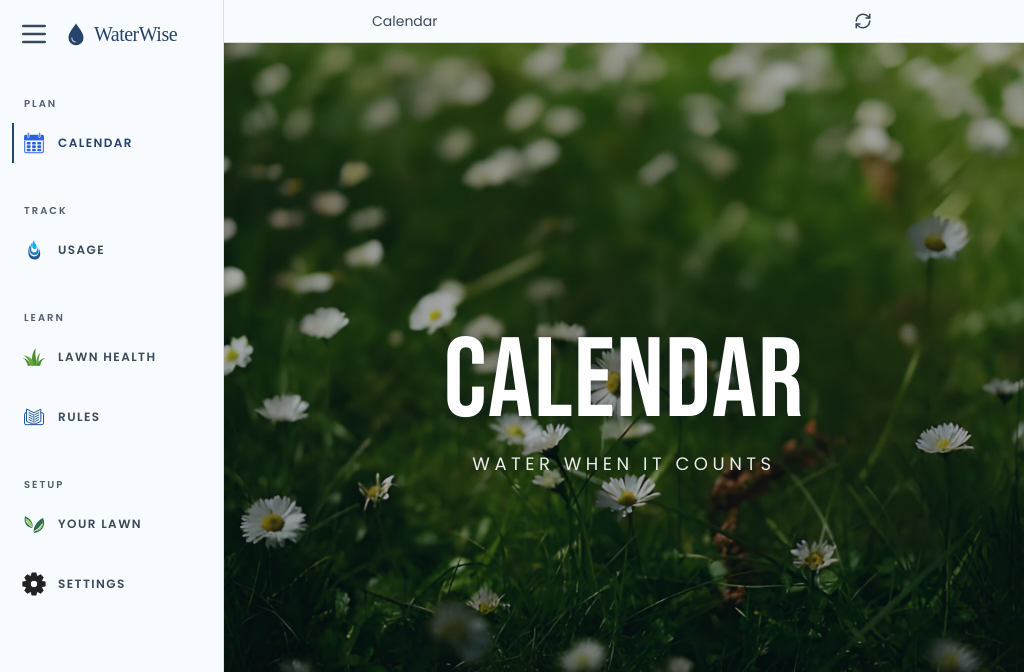
it: app UI › menu has exactly Calendar, Usage, Lawn Health, Municipal Rules and Settings, and each opens
The image size is (1024, 672).
Click the button "Usage": (112, 250) top-left (12, 230), bottom-right (211, 270)
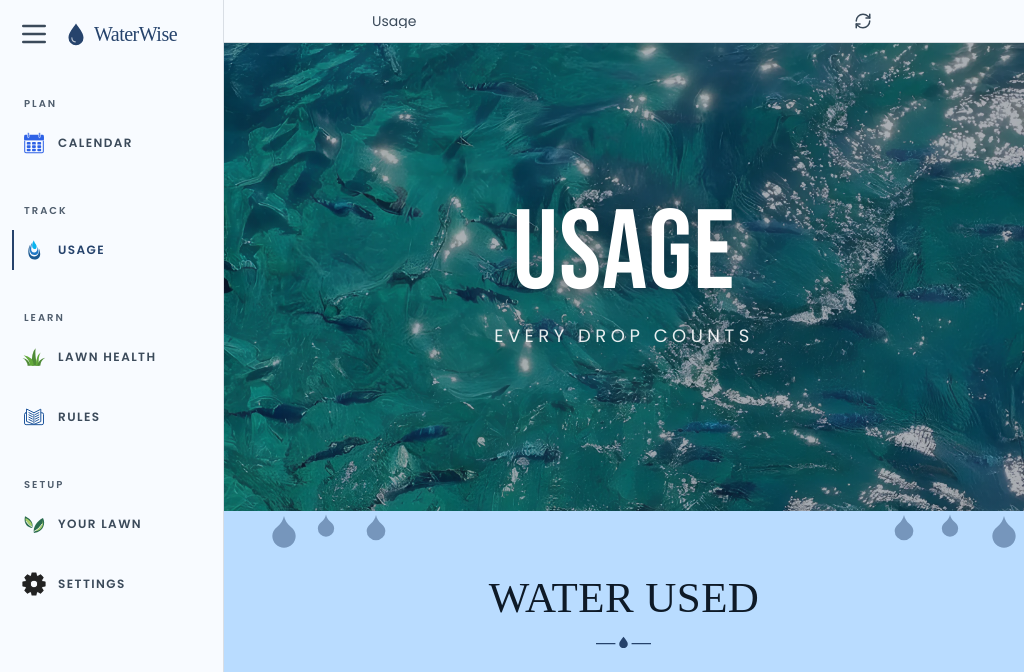
Result: the heading "Usage" is shown at top-left (513, 204), bottom-right (735, 306)
Click the button "Lawn Health": (112, 357) top-left (12, 337), bottom-right (211, 377)
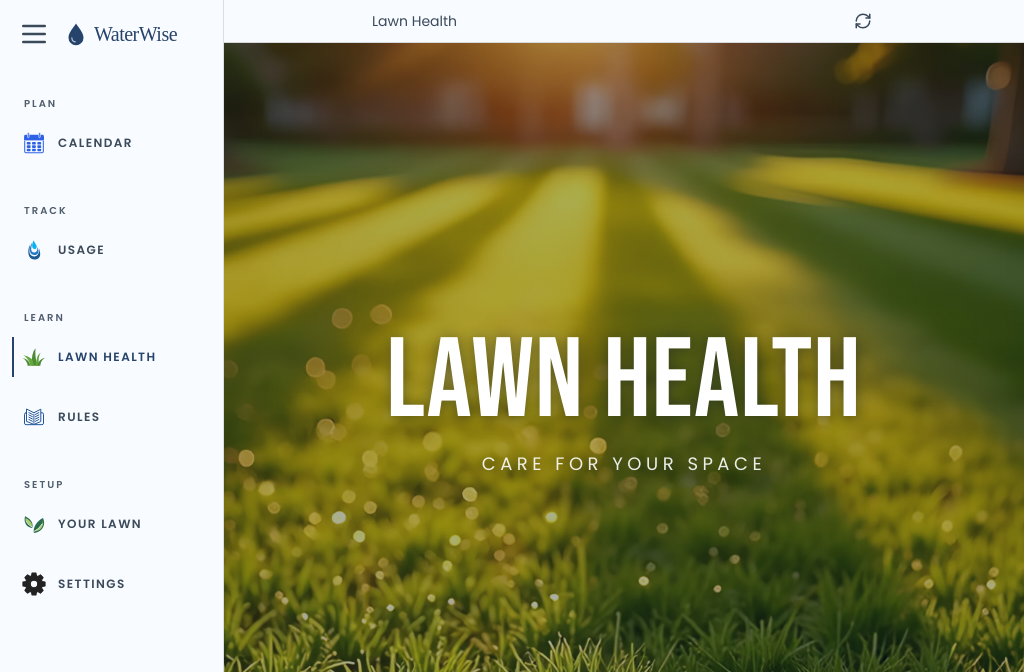
Result: the heading "Lawn Health" is shown at top-left (386, 332), bottom-right (862, 434)
Click the button "Rules": (112, 417) top-left (12, 397), bottom-right (211, 437)
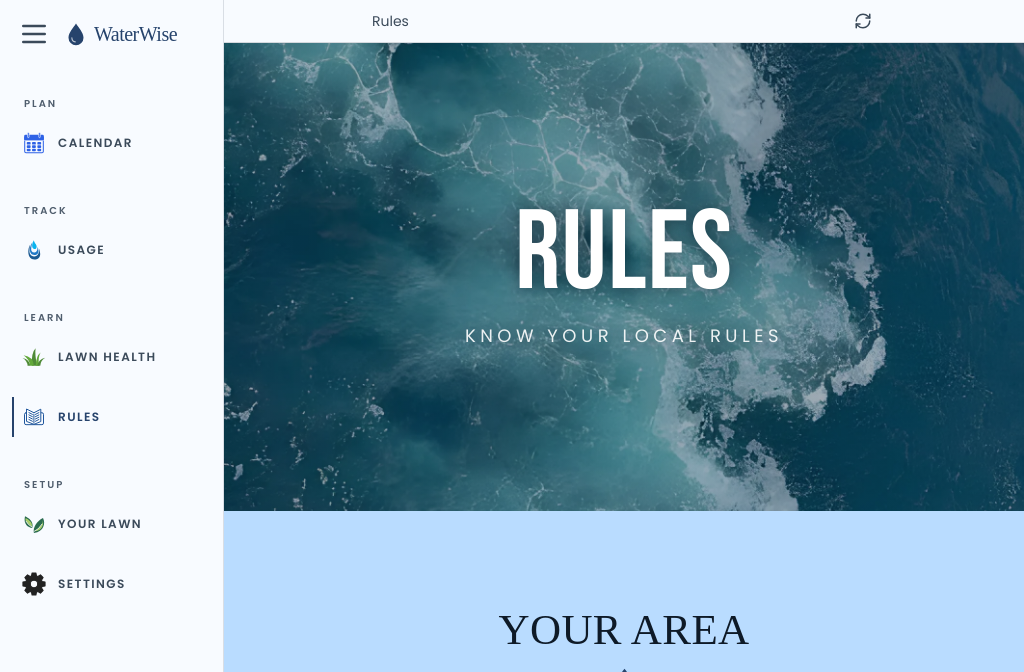
Result: the heading "Rules" is shown at top-left (515, 204), bottom-right (733, 306)
Click the button "Your Lawn": (112, 524) top-left (12, 504), bottom-right (211, 544)
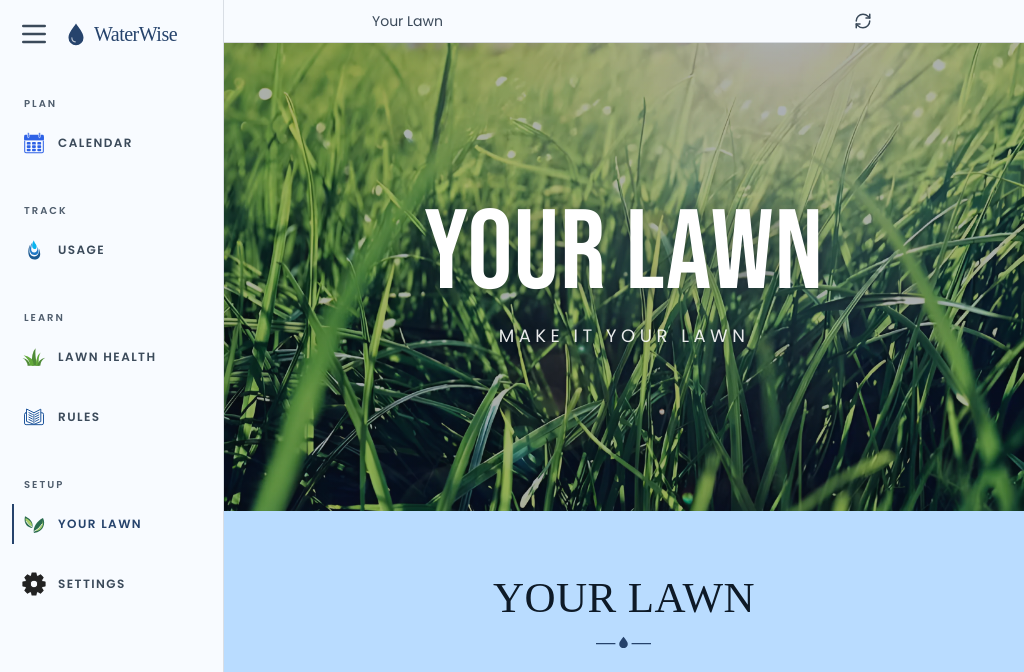
Result: the heading "Your Lawn" is shown at top-left (424, 204), bottom-right (824, 306)
Click the button "Settings": (112, 584) top-left (12, 564), bottom-right (211, 604)
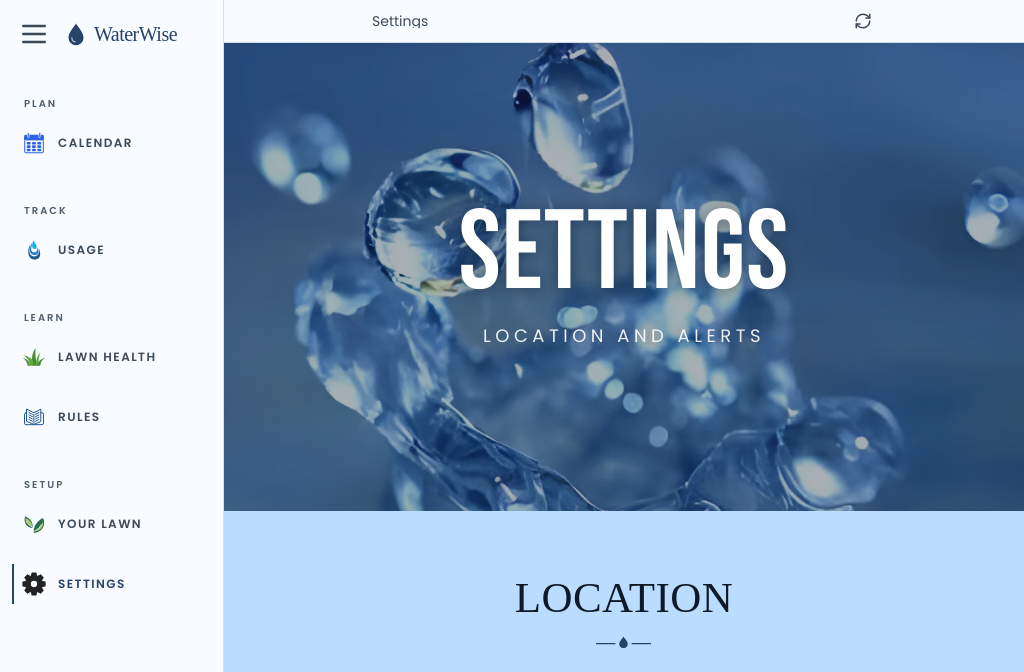
Result: the heading "Settings" is shown at top-left (459, 204), bottom-right (789, 306)
Click the button "Calendar": (112, 143) top-left (12, 123), bottom-right (211, 163)
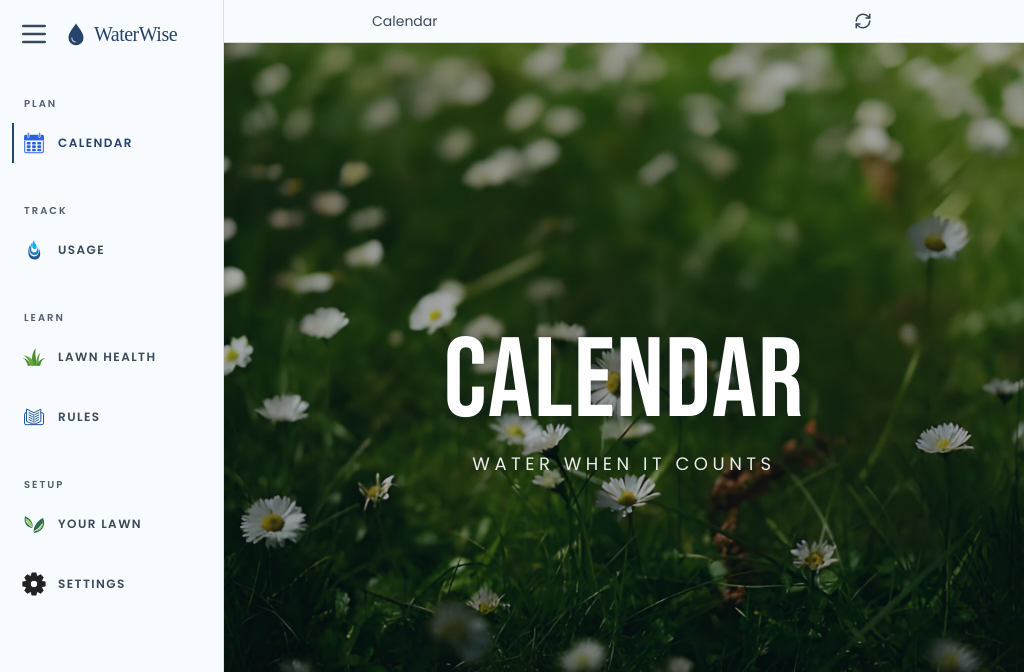
Result: the heading "Calendar" is shown at top-left (444, 332), bottom-right (805, 434)
